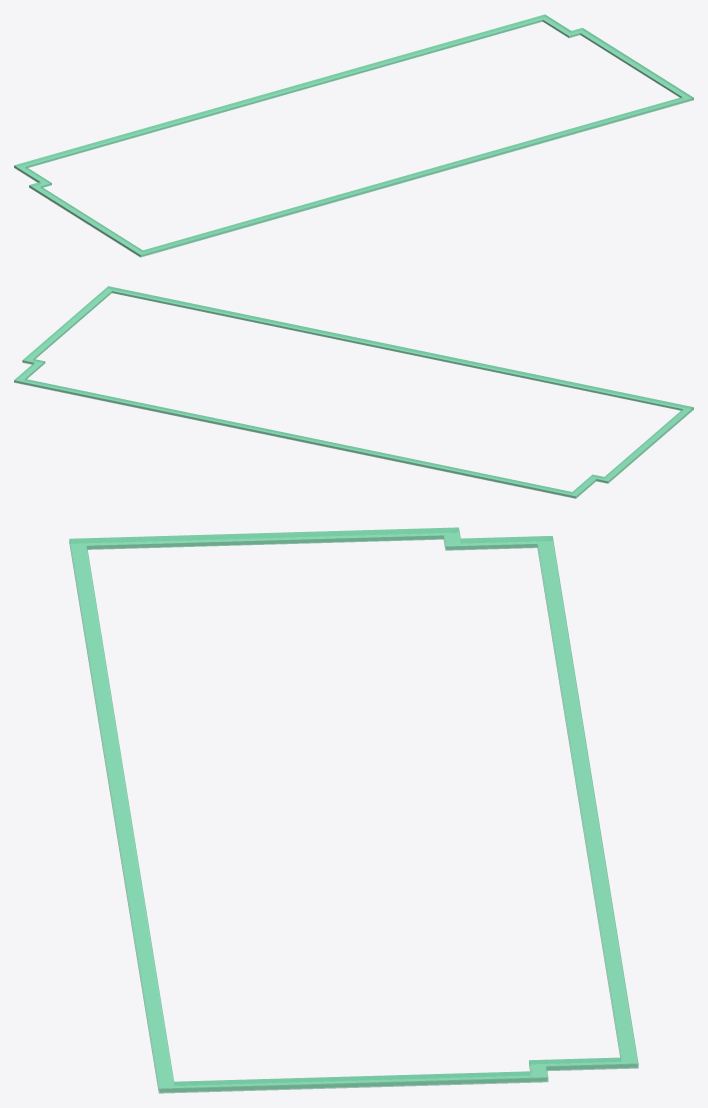
Rendered from Level_04_circulation.glb.
3 renders of one model, top to bottom at view 1: azimuth 30°, elevation 25°; view 2: azimuth 150°, elevation 25°; view 3: azimuth 270°, elevation 25°, orthographic. The views are drawn at different scales.
Parts seen in each view (by area): view 1: Geländer:Dachrandabdeckung 8+18+16:1390999; view 2: Geländer:Dachrandabdeckung 8+18+16:1390999; view 3: Geländer:Dachrandabdeckung 8+18+16:1390999.
Part boxes in pixels (<box>): Geländer:Dachrandabdeckung 8+18+16:1390999: <box>14,14,693,257</box>; Geländer:Dachrandabdeckung 8+18+16:1390999: <box>14,286,693,498</box>; Geländer:Dachrandabdeckung 8+18+16:1390999: <box>69,527,638,1093</box>.
Size of the model in its own units: 40.33 by 0.17 by 17.29.
